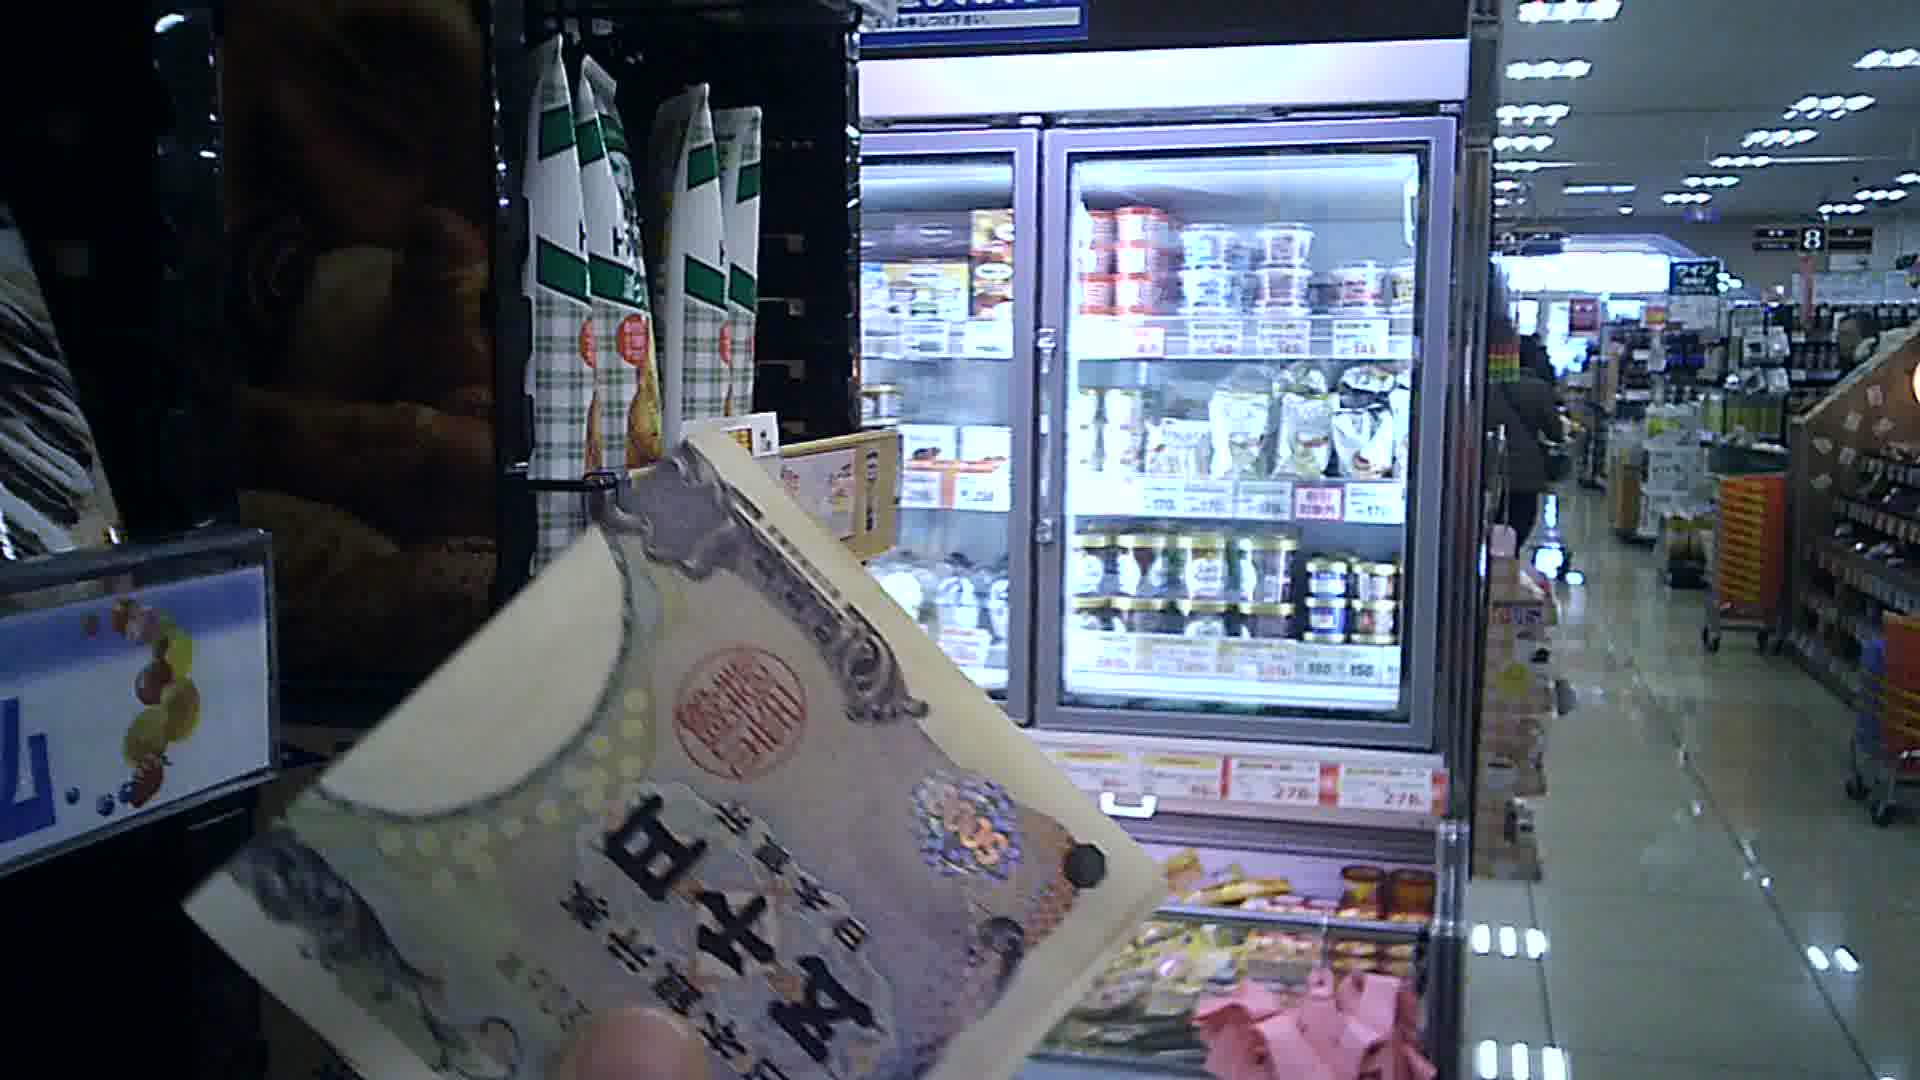5,000 Yen: (178, 418, 1145, 1075)
